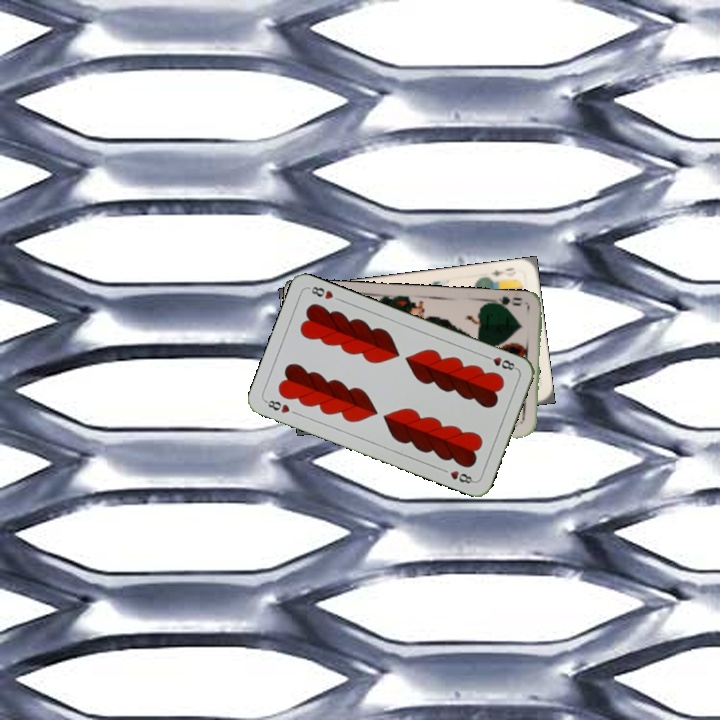EO: (482, 263, 517, 284)
GO: (487, 293, 526, 313)
H8: (480, 351, 520, 373), (261, 396, 292, 416)
